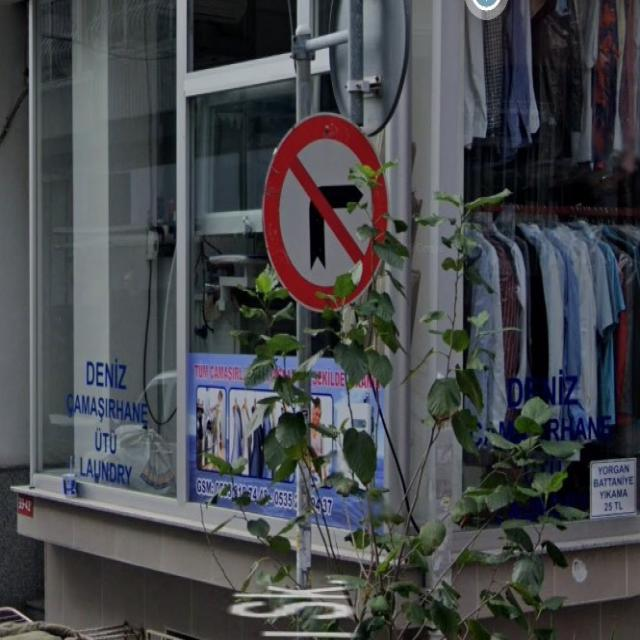sagadonulmez: (263, 113, 388, 314)
